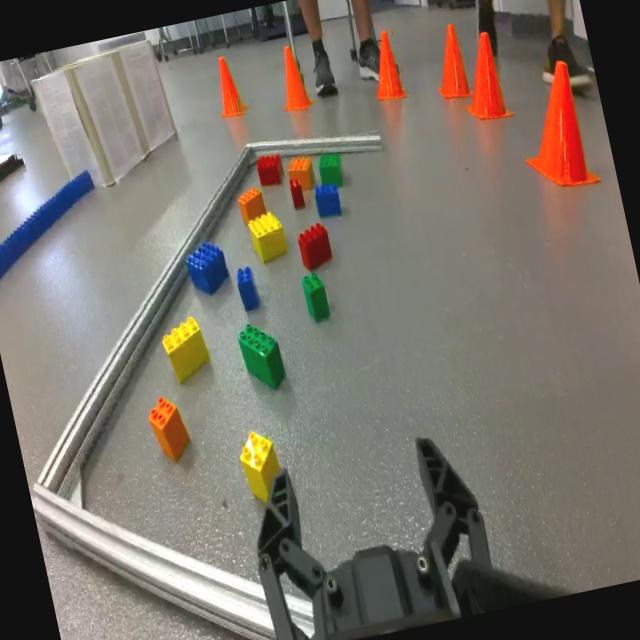block: (228, 421, 286, 504), (156, 311, 213, 388), (244, 203, 292, 268)
blue: (182, 235, 232, 300), (230, 263, 264, 314), (310, 177, 346, 223)
cone: (504, 53, 602, 198), (452, 27, 513, 128), (420, 17, 474, 105), (362, 25, 411, 104), (269, 39, 314, 114), (207, 50, 249, 124)
green: (234, 313, 290, 397), (297, 266, 335, 324), (316, 146, 346, 192)
metal barrier: (31, 129, 384, 640)
orange: (142, 392, 194, 466), (235, 183, 270, 226), (284, 152, 318, 194)
red: (0, 143, 25, 203)
red goal: (294, 218, 336, 272), (252, 145, 286, 187), (284, 172, 308, 212)
river: (0, 167, 113, 300)
storage cube: (29, 41, 184, 199)
